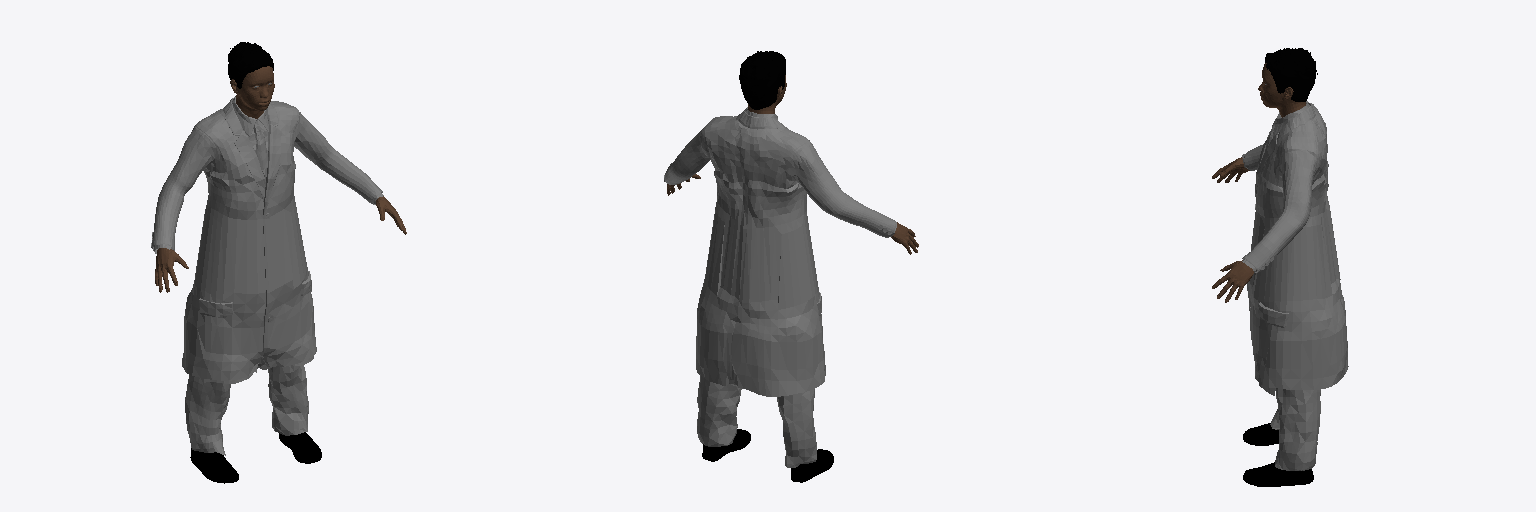
File: doctor.obj
3 renders of one model, left to right at view 1: azimuth 30°, elevation 25°; view 2: azimuth 150°, elevation 25°; view 3: azimuth 270°, elevation 25°, orthographic.
Parts seen in each view (by area): view 1: doctor; view 2: doctor; view 3: doctor.
Boxes of the visible parts, <box> form: doctor: <box>151,42,406,483</box>; doctor: <box>664,51,918,482</box>; doctor: <box>1212,48,1348,486</box>.
Size of the model in its own units: 7.33 by 11.74 by 3.53.